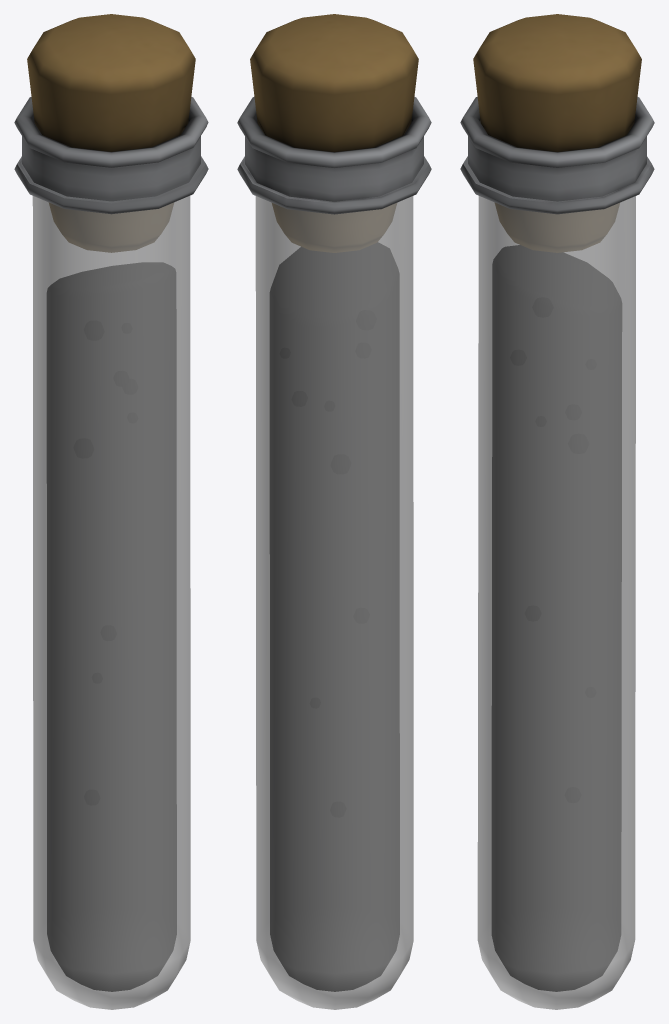
Rendered from Alchemy Vile 1.fbx.
The picture shows the model from 3 angles, left to right: view 1: azimuth 30°, elevation 25°; view 2: azimuth 150°, elevation 25°; view 3: azimuth 270°, elevation 25°; orthographic projection.
Parts seen in each view (by area): view 1: Alchemy_Vile_1; view 2: Alchemy_Vile_1; view 3: Alchemy_Vile_1.
Part boxes in pixels (left/top/right/bottom): Alchemy_Vile_1: left=14, top=14, right=208, bottom=1009; Alchemy_Vile_1: left=237, top=14, right=431, bottom=1009; Alchemy_Vile_1: left=460, top=14, right=654, bottom=1009.
Bounding box in the file's own units: 2.73 × 15.02 × 2.73.
2 materials, 1 textured.
